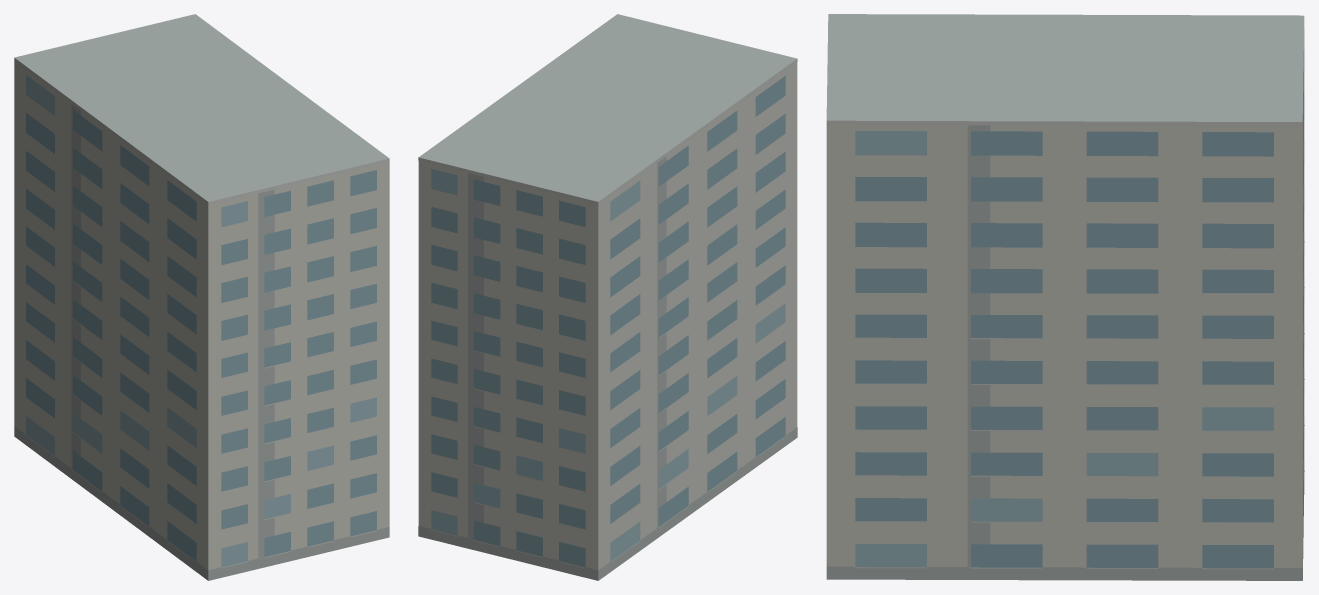
File: residential-42a8a72c-4762-48e6-bb03-5c6f156598a1.glb
The picture shows the model from 3 angles, left to right: view 1: azimuth 30°, elevation 25°; view 2: azimuth 150°, elevation 25°; view 3: azimuth 270°, elevation 25°; orthographic projection. The views are drawn at different scales.
Parts seen in each view (by area): view 1: residential-42a8a72c-4762-48e6-bb03-5c6f156598a1.tmp; view 2: residential-42a8a72c-4762-48e6-bb03-5c6f156598a1.tmp; view 3: residential-42a8a72c-4762-48e6-bb03-5c6f156598a1.tmp.
Part boxes in pixels (bbox=[...]): residential-42a8a72c-4762-48e6-bb03-5c6f156598a1.tmp: bbox=[14, 14, 389, 580]; residential-42a8a72c-4762-48e6-bb03-5c6f156598a1.tmp: bbox=[418, 14, 797, 580]; residential-42a8a72c-4762-48e6-bb03-5c6f156598a1.tmp: bbox=[826, 14, 1304, 580].
Size of the model in its own units: 13.65 by 27 by 25.5.
